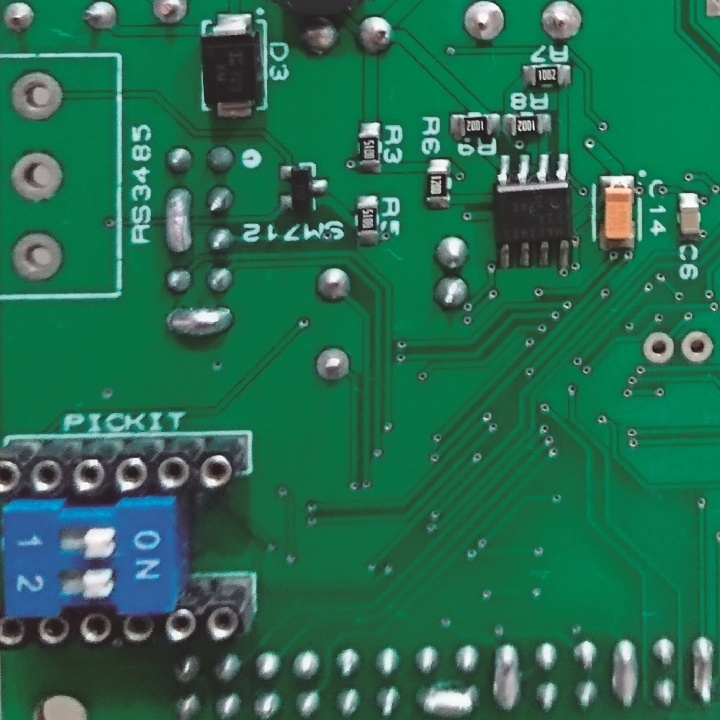F: (7, 69, 69, 128), (8, 148, 68, 207), (11, 230, 66, 285), (459, 1, 507, 49), (540, 1, 587, 44), (145, 1, 193, 35), (78, 1, 120, 38), (313, 344, 353, 382), (1, 1, 39, 40), (678, 328, 715, 367), (640, 328, 675, 366)
P: (159, 184, 196, 260), (410, 678, 476, 720), (164, 303, 238, 340), (490, 640, 524, 717), (608, 635, 641, 709), (689, 632, 718, 708)
